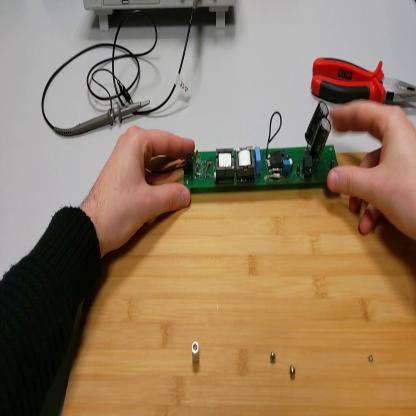hand: (89, 125, 194, 253), (328, 99, 416, 239)
high voltage board: (147, 99, 341, 196)
oscilloscope: (85, 1, 237, 33)
oscilloscope probe tip: (70, 102, 153, 140)
pliers: (313, 52, 416, 107)
working area: (62, 154, 416, 416)
